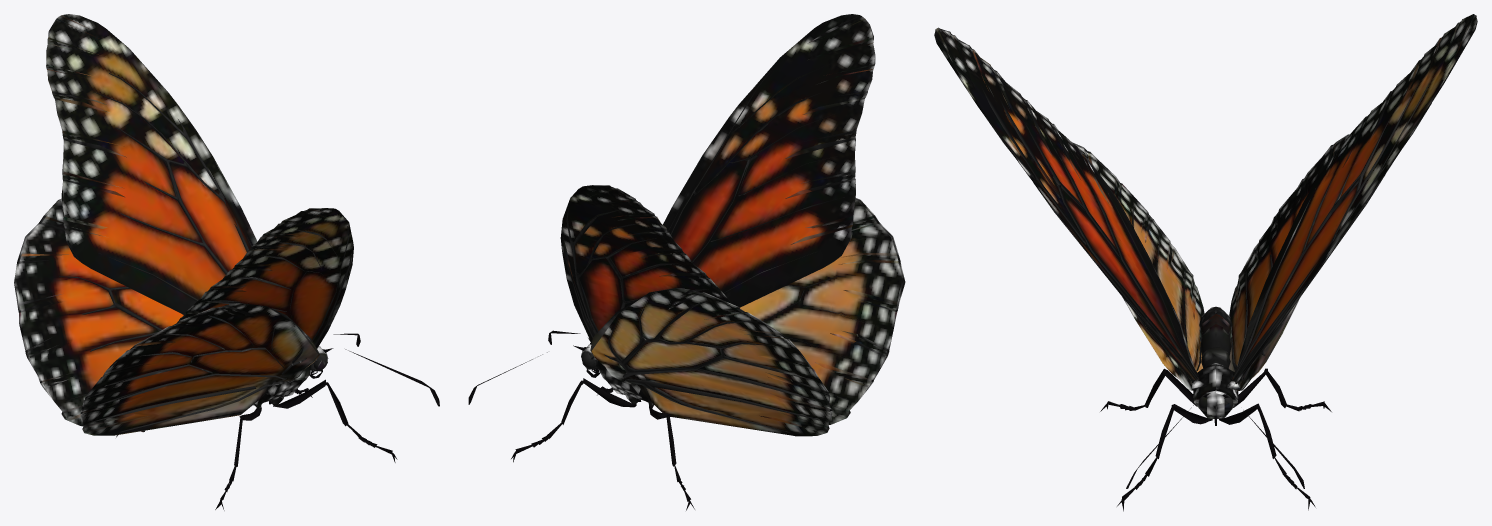
Rendered from monarch.glb.
3 views of the same model, side by side, from view 1: azimuth 30°, elevation 25°; view 2: azimuth 150°, elevation 25°; view 3: azimuth 270°, elevation 25° (orthographic). The views are drawn at different scales.
Parts seen in each view (by area): view 1: Abdomen.001_Abdomen.002; view 2: Abdomen.001_Abdomen.002; view 3: Abdomen.001_Abdomen.002.
Part boxes in pixels (x1,y1,x2,y2): Abdomen.001_Abdomen.002: (14, 14, 439, 510); Abdomen.001_Abdomen.002: (468, 14, 905, 510); Abdomen.001_Abdomen.002: (934, 14, 1477, 511).
Size of the model in its own units: 10.45 by 10.68 by 13.04.
1 material, 1 textured.
